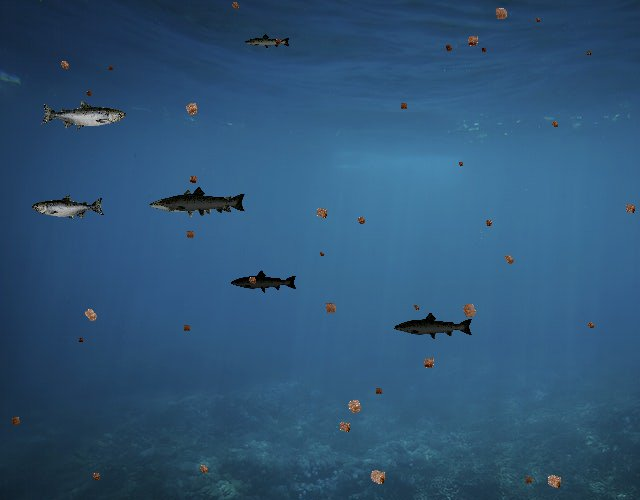Fish: (157, 186, 247, 218), (148, 188, 234, 219), (40, 100, 126, 131), (393, 312, 474, 341), (32, 195, 105, 221), (230, 269, 298, 294), (244, 33, 291, 50)
Pellet: (489, 1, 513, 25), (310, 201, 333, 224), (499, 249, 519, 269), (55, 56, 74, 75), (185, 171, 202, 188), (227, 0, 243, 14), (372, 384, 386, 398), (83, 88, 96, 101), (456, 158, 466, 168)
